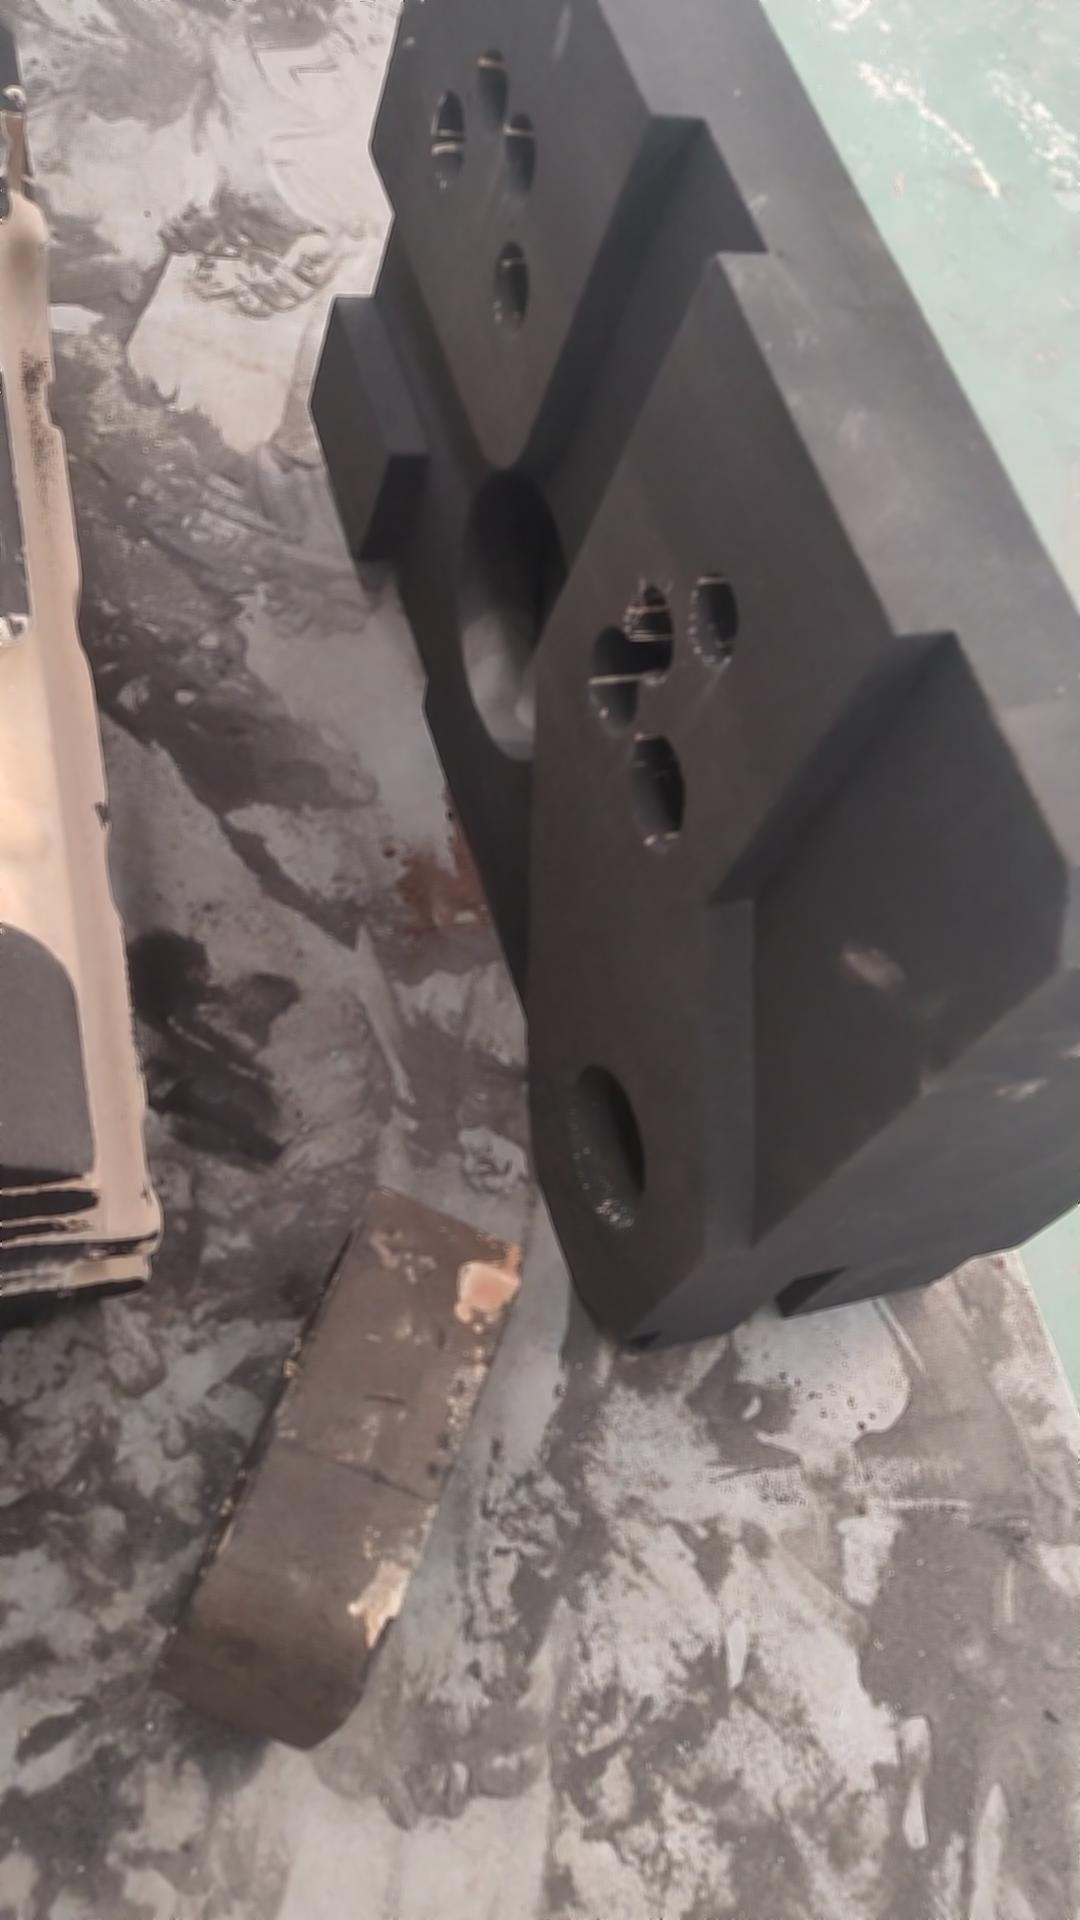pouring hole: (568, 1064, 649, 1229)
